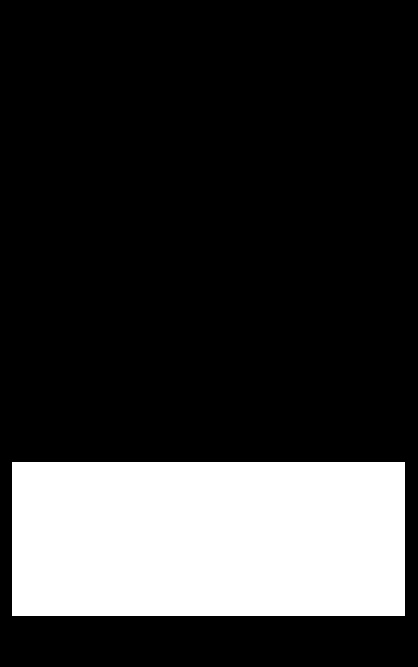table: (12, 462, 404, 615)
